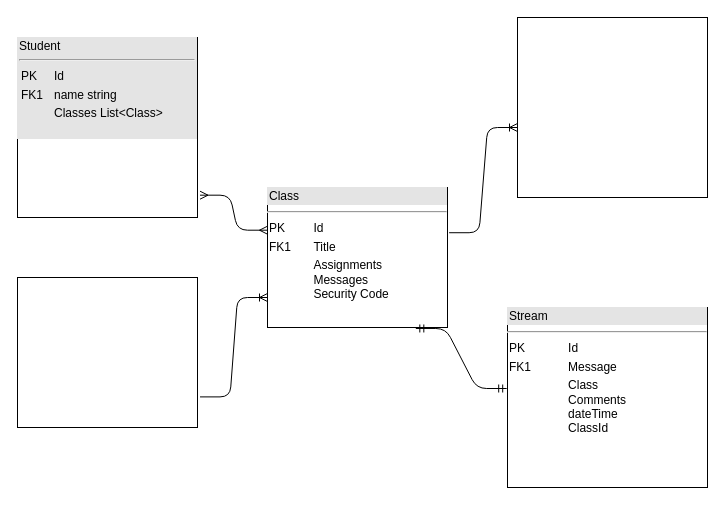
The diagram is 725 pixels wide and 505 high, and some of its shapes have lost their labels. The shapes that lost their labels are listed below. From the top down, each one's centre as x and y in pixels, then its label:
the point at 612,107: Assignment PK Id FK1 Class Title Description Grade Deadline
the point at 107,352: Teacher PK Id FK1 name string Classes List<Class>
